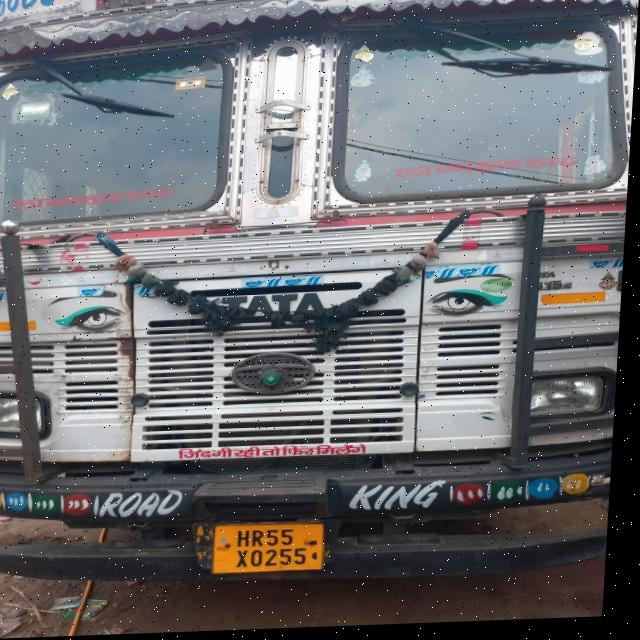plate: (210, 522, 336, 585)
